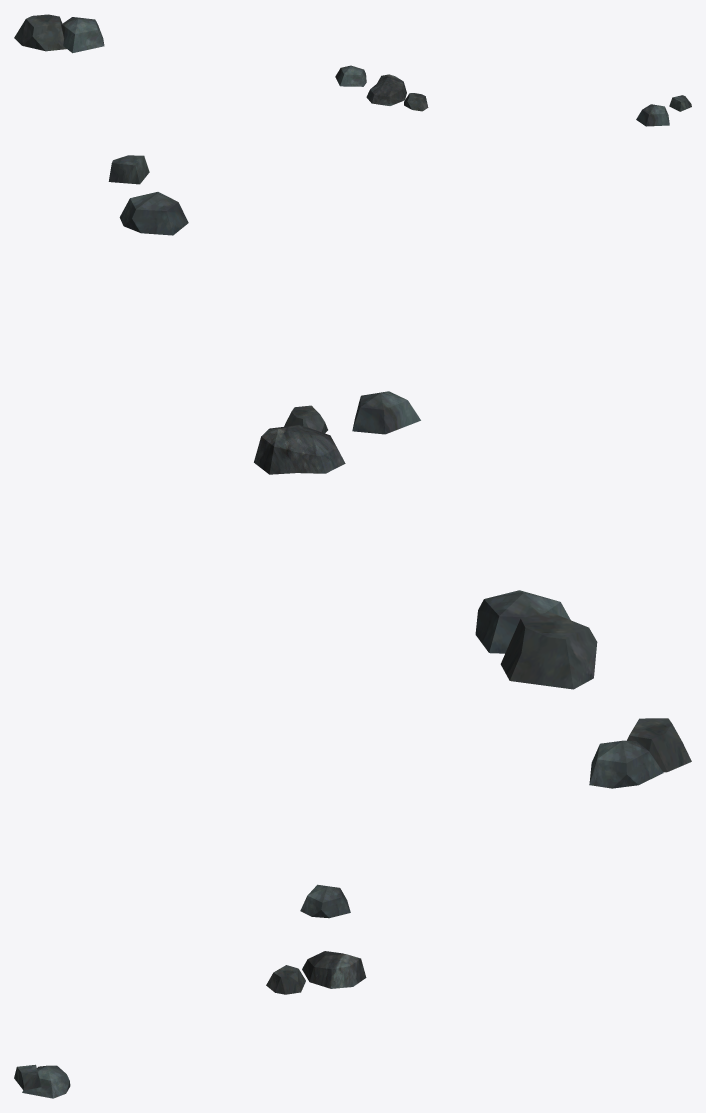
Rendered from object_rubble18.fbx.
The picture shows the model from 3 angles, top to bottom: view 1: azimuth 30°, elevation 25°; view 2: azimuth 150°, elevation 25°; view 3: azimuth 270°, elevation 25°; orthographic projection. The views are drawn at different scales.
Visible parts, largest first — view 1: obj0.092; view 2: obj0.092; view 3: obj0.092.
Boxes of the visible parts, box(x1,y1,x2,y2) form: obj0.092: box(14, 14, 691, 126); obj0.092: box(108, 155, 597, 689); obj0.092: box(14, 718, 691, 1098).
Bounding box in the file's own units: 7.05 × 0.8739 × 6.2.
